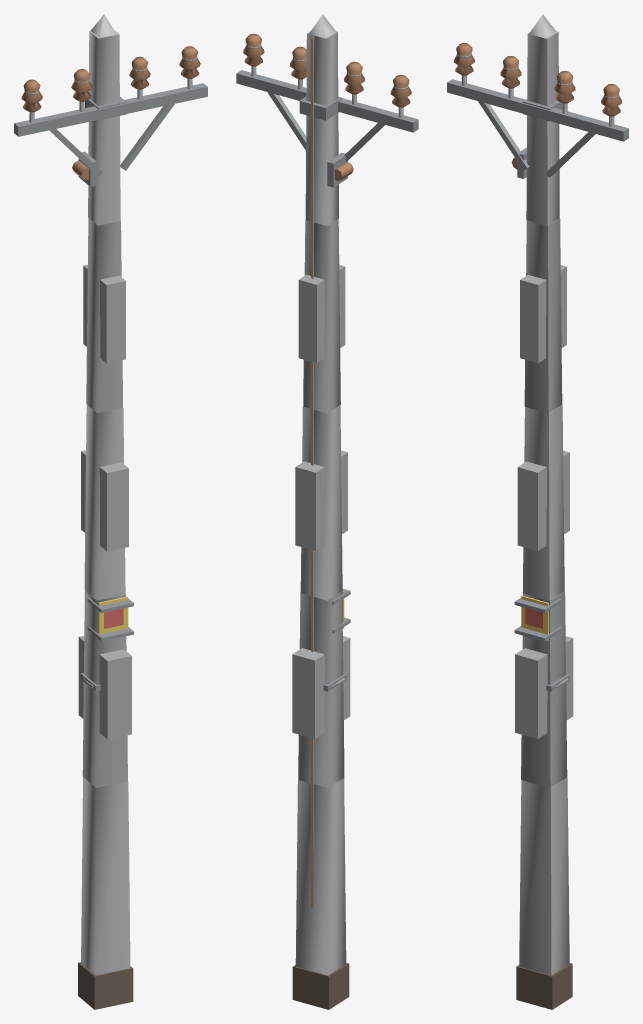
The model's file is south_indian_village_electricity_pole.glb.
The picture shows the model from 3 angles, left to right: view 1: azimuth 30°, elevation 25°; view 2: azimuth 150°, elevation 25°; view 3: azimuth 330°, elevation 25°; orthographic projection.
Visible parts, largest first — view 1: Concrete_PSCC_Shaft, Steel_Crossarm_Assembly, Pole_Subgrade_Anchor_Plug, Danger_440V_Notice_Plate, Insulator_Port_4, Insulator_Port_1, Insulator_Port_2, Insulator_Port_3, Streetlight_Service_Spool; view 2: Concrete_PSCC_Shaft, Steel_Crossarm_Assembly, Pole_Subgrade_Anchor_Plug, Utility_Hardware_And_Signage, Streetlight_Service_Spool, Insulator_Port_1, Insulator_Port_4, Insulator_Port_2, Insulator_Port_3; view 3: Concrete_PSCC_Shaft, Steel_Crossarm_Assembly, Pole_Subgrade_Anchor_Plug, Danger_440V_Notice_Plate, Insulator_Port_1, Insulator_Port_4, Insulator_Port_2, Insulator_Port_3.
Part boxes in pixels (x1,y1,x2,y2): Concrete_PSCC_Shaft: (78,14,131,975); Steel_Crossarm_Assembly: (14,83,207,176); Pole_Subgrade_Anchor_Plug: (78,962,133,1009); Danger_440V_Notice_Plate: (87,596,133,641); Insulator_Port_4: (179,46,200,89); Insulator_Port_1: (21,79,42,122); Insulator_Port_2: (71,69,92,111); Insulator_Port_3: (129,56,150,99); Streetlight_Service_Spool: (72,151,96,186); Concrete_PSCC_Shaft: (292,14,350,975); Steel_Crossarm_Assembly: (236,70,418,161); Pole_Subgrade_Anchor_Plug: (292,963,349,1009); Utility_Hardware_And_Signage: (311,37,313,908); Streetlight_Service_Spool: (327,152,353,187); Insulator_Port_1: (390,74,411,117); Insulator_Port_4: (243,33,264,76); Insulator_Port_2: (344,61,364,104); Insulator_Port_3: (290,46,306,89); Concrete_PSCC_Shaft: (515,14,573,975); Steel_Crossarm_Assembly: (447,79,628,177); Pole_Subgrade_Anchor_Plug: (516,963,572,1009); Danger_440V_Notice_Plate: (514,595,561,641); Insulator_Port_1: (454,43,474,85); Insulator_Port_4: (601,84,621,126); Insulator_Port_2: (500,56,521,98); Insulator_Port_3: (554,71,575,113).
Size of the model in its own units: 1.44 by 7.39 by 0.447.
